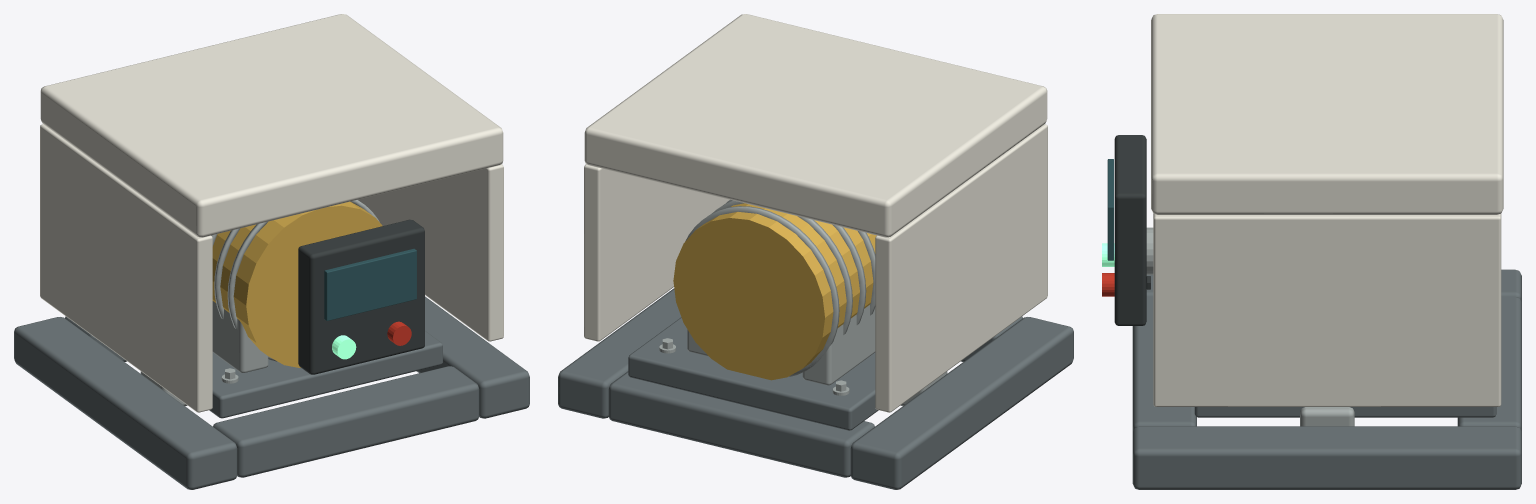
File: automated-parking-and-vehicle-retrieval-automated-park-02a84fff__30345.glb
The picture shows the model from 3 angles, left to right: view 1: azimuth 30°, elevation 25°; view 2: azimuth 150°, elevation 25°; view 3: azimuth 270°, elevation 25°; orthographic projection. The views are drawn at different scales.
Parts seen in each view (by area): view 1: automated-parking-and-vehicle-retrieval-turntable-drive-hous (×6); view 2: automated-parking-and-vehicle-retrieval-turntable-drive-hous (×4); view 3: automated-parking-and-vehicle-retrieval-turntable-drive-hous (×5).
Boxes of the visible parts, left/top/right/bottom form: automated-parking-and-vehicle-retrieval-turntable-drive-hous (×6): left=14, top=14, right=529, bottom=489; automated-parking-and-vehicle-retrieval-turntable-drive-hous (×4): left=558, top=14, right=1073, bottom=489; automated-parking-and-vehicle-retrieval-turntable-drive-hous (×5): left=1107, top=14, right=1521, bottom=489.
Size of the model in its own units: 0.95 by 0.74 by 0.917.
